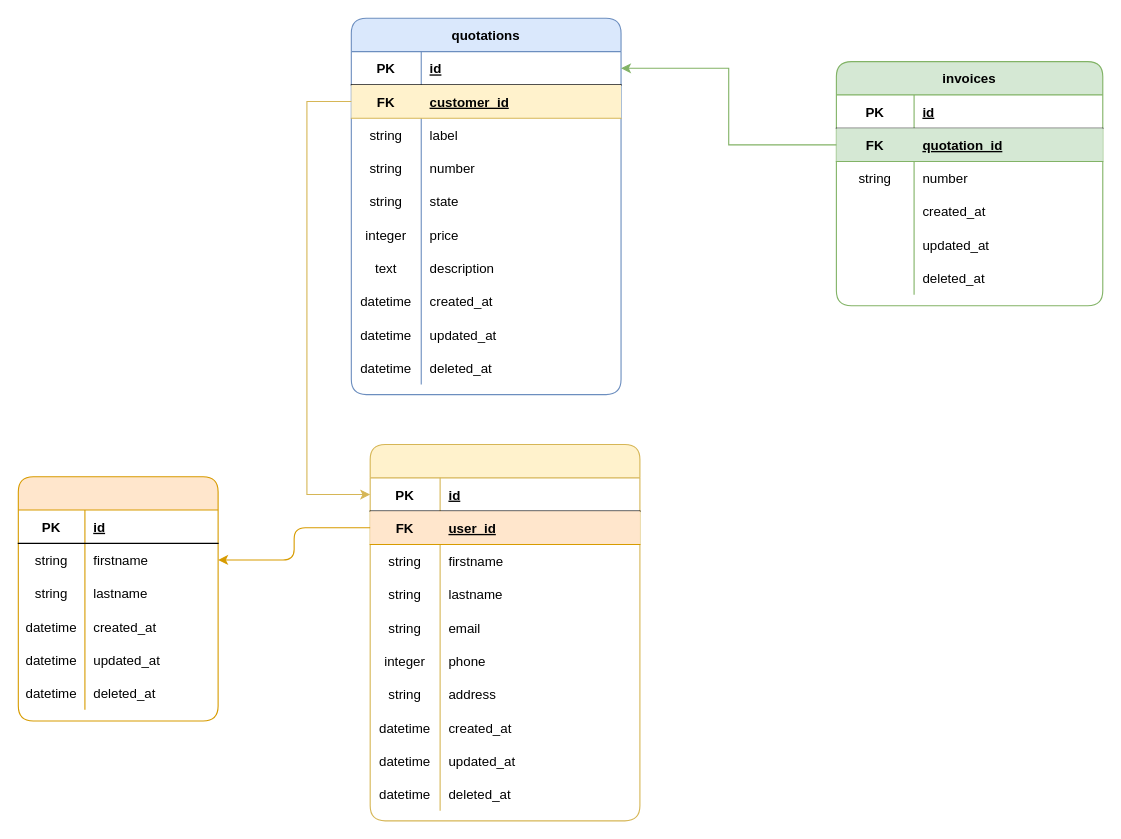
The diagram is 1121 pixels wide and 839 high, and some of its shapes have lost their labels. Here are the shapes that lost their labels. From the top down, the box of each, then its label:
(17, 476, 218, 721): users
(369, 443, 640, 821): customers
